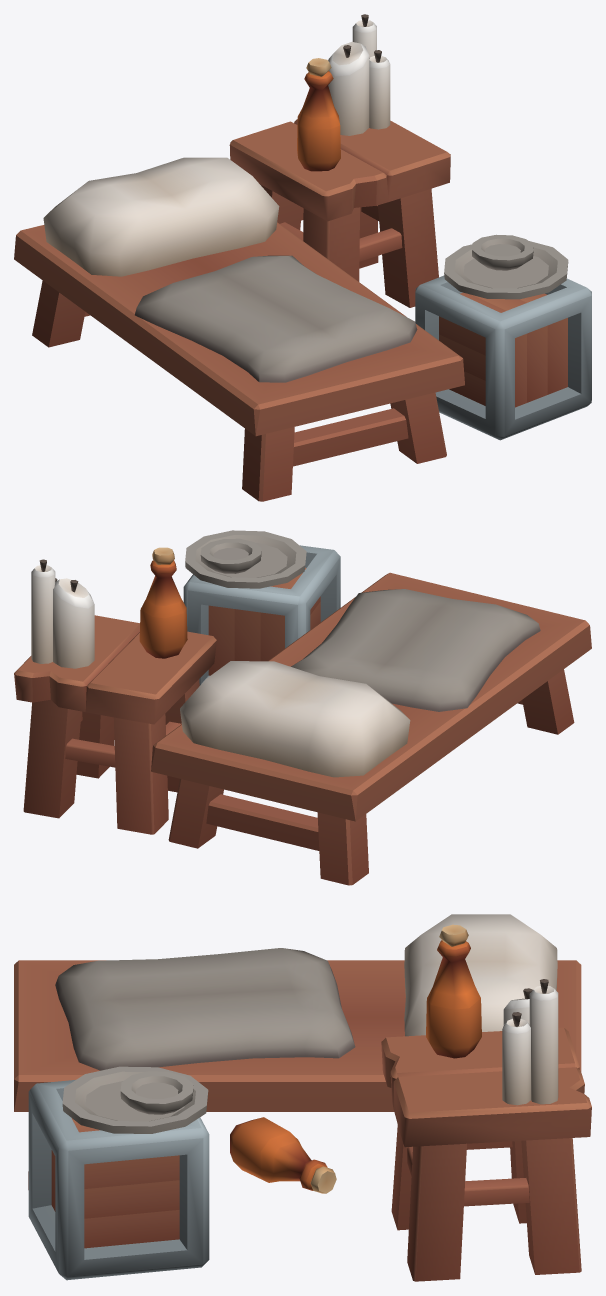
Rendered from bed_decorated.gltf.
3 renders of one model, top to bottom at view 1: azimuth 30°, elevation 25°; view 2: azimuth 150°, elevation 25°; view 3: azimuth 270°, elevation 25°, orthographic. The views are drawn at different scales.
Parts seen in each view (by area): view 1: bed_decorated; view 2: bed_decorated; view 3: bed_decorated.
Boxes of the visible parts, x1,y1,x2,y2 form: bed_decorated: (14, 14, 591, 501); bed_decorated: (14, 530, 591, 885); bed_decorated: (14, 914, 591, 1281).
Size of the model in its own units: 2.61 by 1.7 by 3.06.
Materials: 1 (1 with a texture image).
